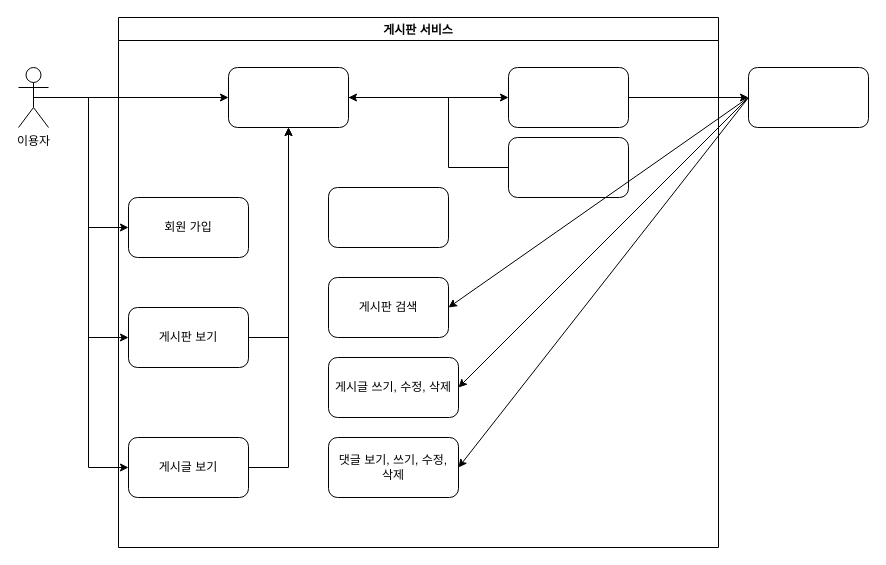
Image size: 886x565. Some labels were removed from this diagram. Here are the shapes that lost their labels. From the top down, the box of each, then its label:
(228, 66, 348, 128): 회원 로그인
(508, 66, 628, 128): 인증
(508, 136, 628, 198): 로그인 실패
(328, 186, 448, 248): 게시판 정렬
